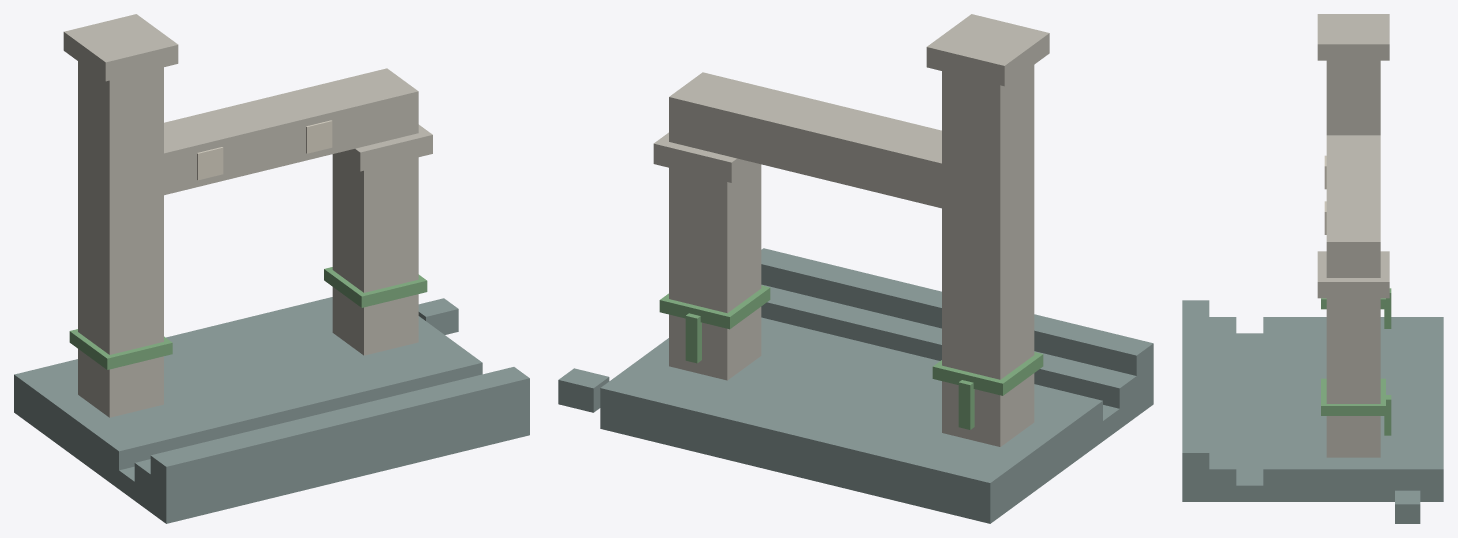
The model's file is 25-Ruinas-Templos_estructura_sumergida.glb.
3 renders of one model, left to right at view 1: azimuth 30°, elevation 25°; view 2: azimuth 150°, elevation 25°; view 3: azimuth 270°, elevation 25°, orthographic. The views are drawn at different scales.
Visible parts, largest first — view 1: SM_Sumerg_Base_NOFUNDIR, SM_Sumerg_Portico_Izq_NOFUNDIR, SM_Sumerg_Portico_Der_NOFUNDIR, SM_Sumerg_Bandas_NOFUNDIR, SM_Sumerg_Glifo_1, SM_Sumerg_Glifo_2; view 2: SM_Sumerg_Base_NOFUNDIR, SM_Sumerg_Portico_Izq_NOFUNDIR, SM_Sumerg_Portico_Der_NOFUNDIR, SM_Sumerg_Bandas_NOFUNDIR, SM_Sumerg_Alga_1, SM_Sumerg_Alga_2; view 3: SM_Sumerg_Base_NOFUNDIR, SM_Sumerg_Portico_Izq_NOFUNDIR, SM_Sumerg_Portico_Der_NOFUNDIR, SM_Sumerg_Bandas_NOFUNDIR.
Boxes of the visible parts, x1,y1,x2,y2 form: SM_Sumerg_Base_NOFUNDIR: [14, 297, 529, 523]; SM_Sumerg_Portico_Izq_NOFUNDIR: [63, 14, 418, 417]; SM_Sumerg_Portico_Der_NOFUNDIR: [332, 124, 432, 355]; SM_Sumerg_Bandas_NOFUNDIR: [69, 267, 427, 369]; SM_Sumerg_Glifo_1: [197, 147, 223, 180]; SM_Sumerg_Glifo_2: [306, 120, 332, 153]; SM_Sumerg_Base_NOFUNDIR: [558, 248, 1153, 523]; SM_Sumerg_Portico_Izq_NOFUNDIR: [669, 14, 1049, 446]; SM_Sumerg_Portico_Der_NOFUNDIR: [653, 132, 761, 380]; SM_Sumerg_Bandas_NOFUNDIR: [659, 285, 1043, 395]; SM_Sumerg_Alga_1: [958, 380, 974, 429]; SM_Sumerg_Alga_2: [685, 313, 701, 363]; SM_Sumerg_Base_NOFUNDIR: [1182, 300, 1443, 523]; SM_Sumerg_Portico_Izq_NOFUNDIR: [1317, 14, 1389, 277]; SM_Sumerg_Portico_Der_NOFUNDIR: [1317, 251, 1389, 457]; SM_Sumerg_Bandas_NOFUNDIR: [1321, 298, 1385, 415].
Bounding box in the file's own units: 2.29 × 2.1 × 1.45.
